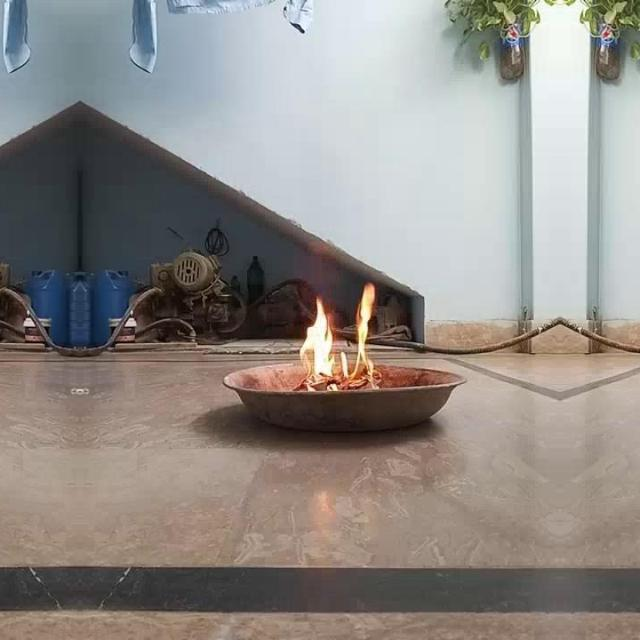smoke: (340, 280, 380, 381), (296, 294, 334, 380)
